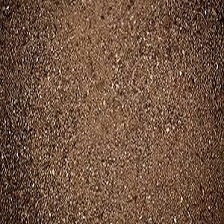sandy_soil: (9, 15, 212, 210)
